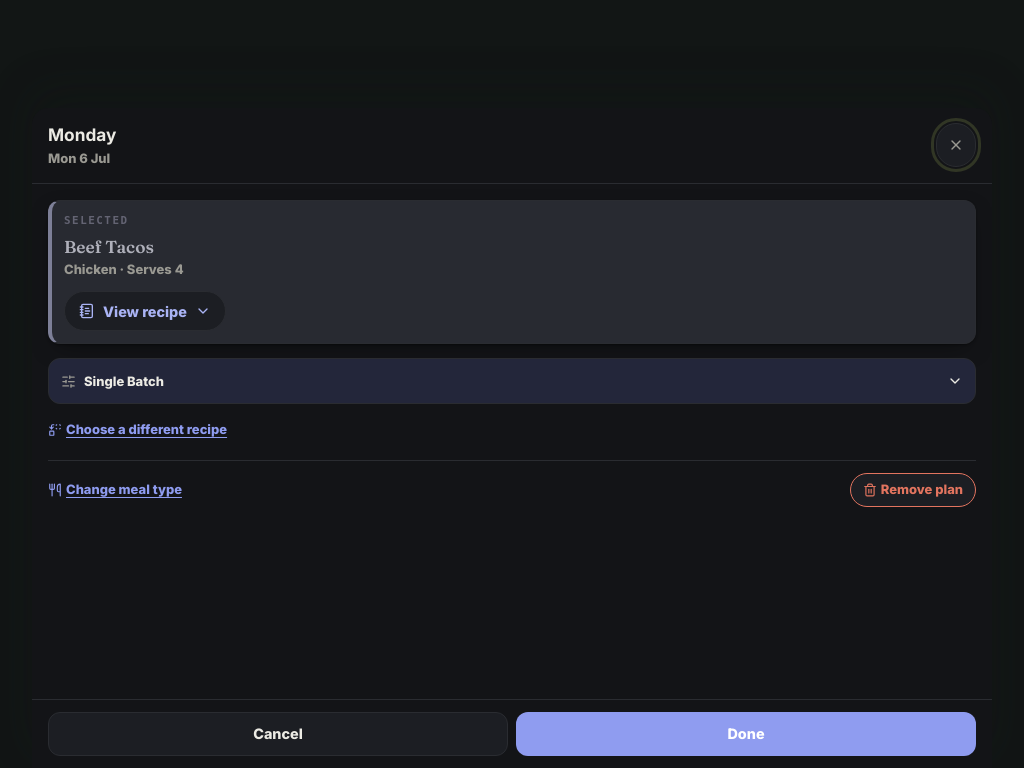
MealEditorSheet — recipe picker › hides the meal-level chrome while previewing a candidate recipe
The image size is (1024, 768).
A planned meal → swap → preview a different recipe.
Click the button "Choose a different recipe". click: (138,430)
box: [48,418,227,442]
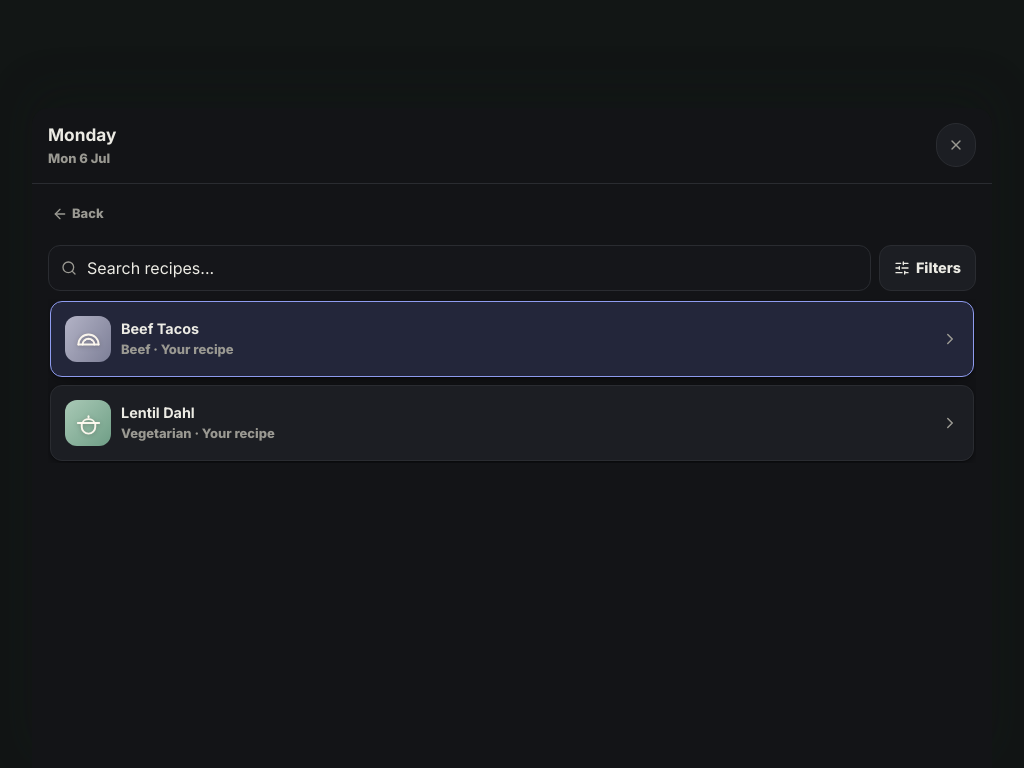
Click the button "Lentil Dahl Vegetarian · Your recipe". click: (88,423)
box: [50,385,974,461]
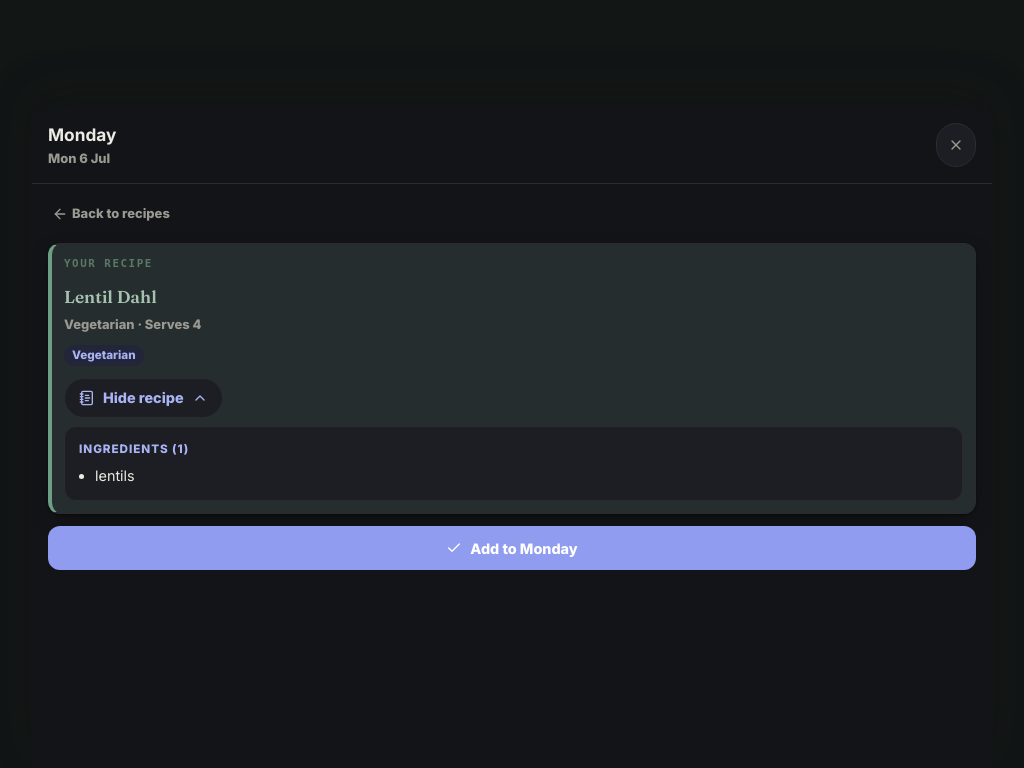
Check: the button "Done" is not shown
Check: the button "Add to Monday" is shown, box [48,526,976,570]
Check: the button "Back to recipes" is shown, box [48,200,976,227]
